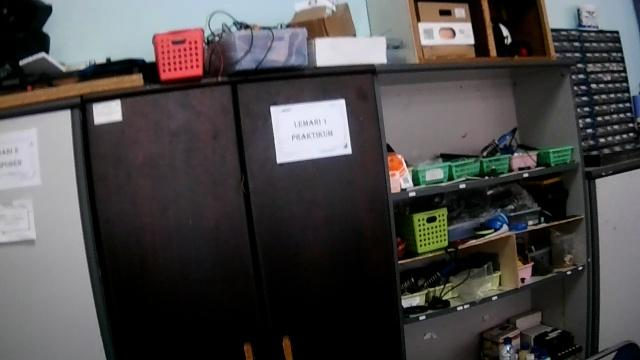Lemari: (79, 61, 400, 359)
Rak: (371, 53, 592, 359)
